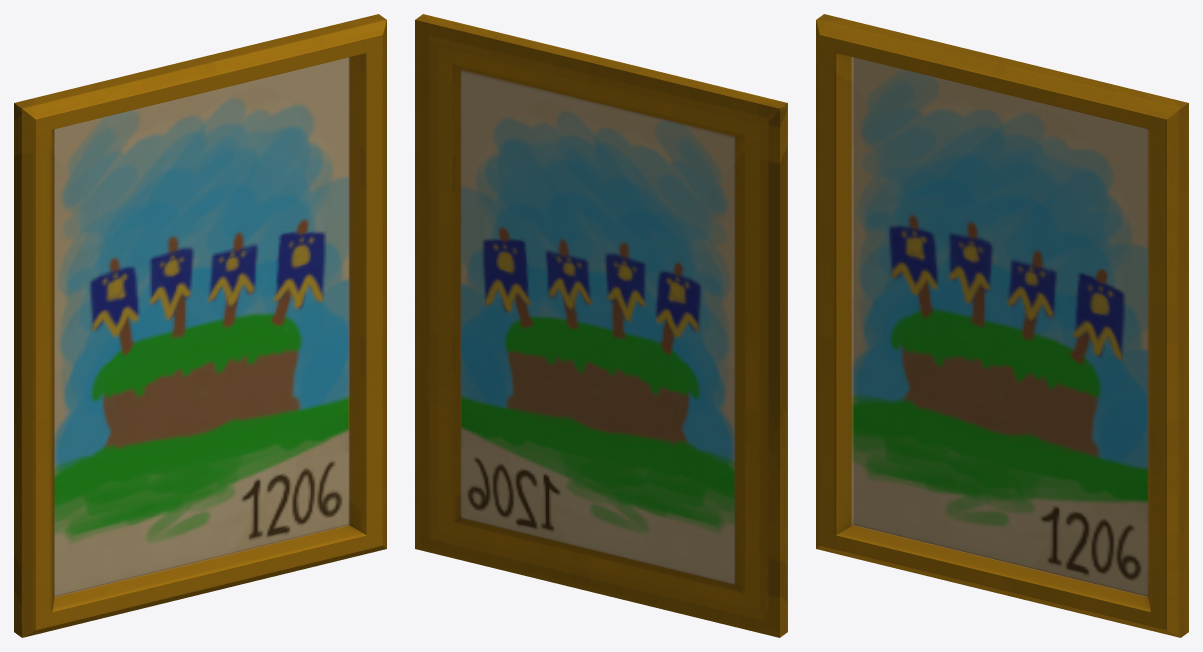
The model's file is painting01_model.glb.
3 renders of one model, left to right at view 1: azimuth 30°, elevation 25°; view 2: azimuth 150°, elevation 25°; view 3: azimuth 330°, elevation 25°, orthographic.
Parts seen in each view (by area): view 1: picture01_t8; view 2: picture01_t8; view 3: picture01_t8.
Boxes of the visible parts, x1=… form: picture01_t8: x1=14, y1=14, x2=386, y2=637; picture01_t8: x1=415, y1=14, x2=787, y2=637; picture01_t8: x1=816, y1=14, x2=1188, y2=637.
Bounding box in the file's own units: 2.43 × 3.38 × 0.1509.
Materials: 1 (1 with a texture image).
